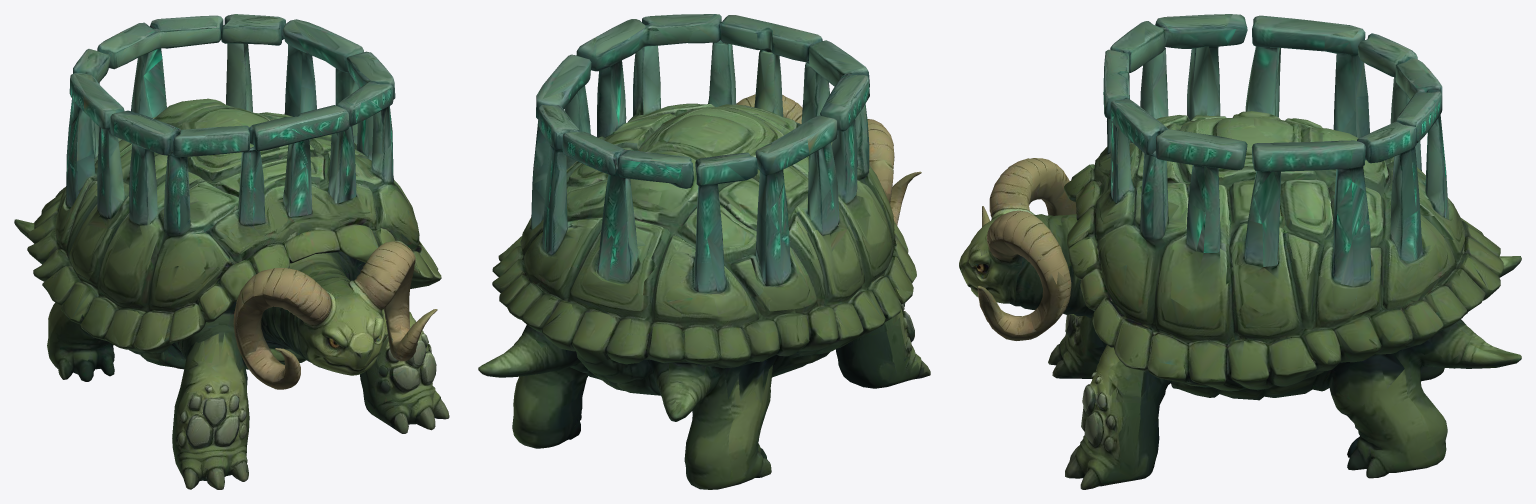
The model's file is cairnback.glb.
3 renders of one model, left to right at view 1: azimuth 30°, elevation 25°; view 2: azimuth 150°, elevation 25°; view 3: azimuth 270°, elevation 25°, orthographic. The views are drawn at different scales.
Visible parts, largest first — view 1: Mesh_0; view 2: Mesh_0; view 3: Mesh_0.
Part boxes in pixels (x1,y1,x2,y2): Mesh_0: [14, 14, 449, 489]; Mesh_0: [478, 14, 930, 489]; Mesh_0: [959, 14, 1521, 489].
Bounding box in the file's own units: 1.41 × 1.3 × 1.9.
1 material, 1 textured.
